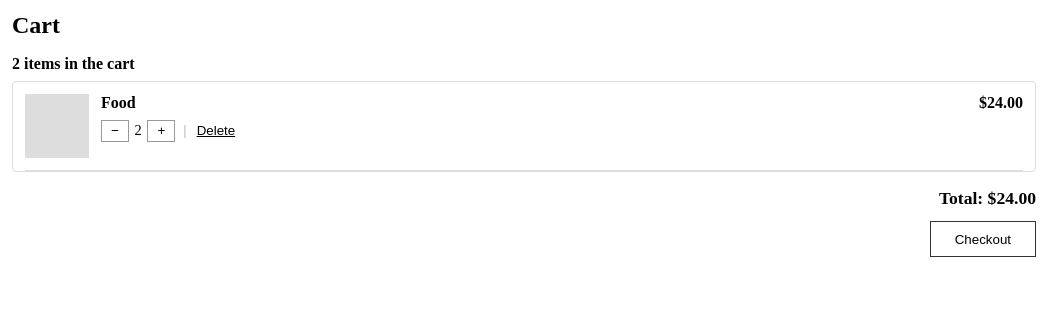
Test: CartPage › shows error banner when quantity update fails
Expected: the text "Food" is shown, [101, 94, 136, 111]
Click the button named "Increase quantity of Food": (161, 131) [147, 120, 175, 142]
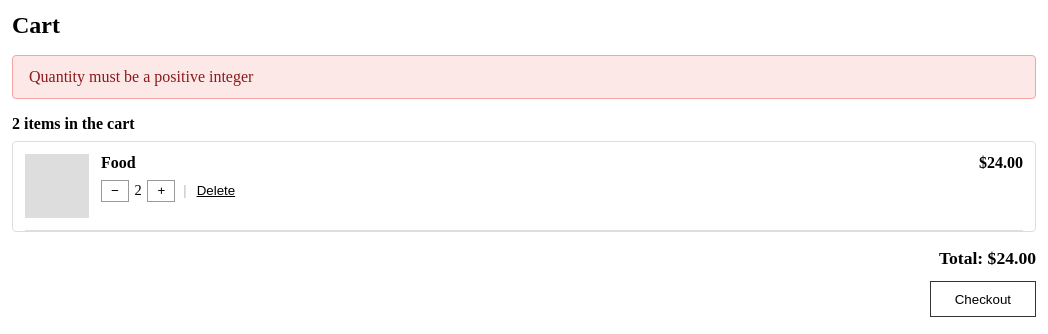
Expected: the message reads "Quantity must be a positive integer", [29, 68, 253, 85]
